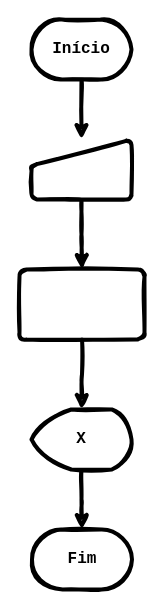
The diagram is 163 pixels wide and 608 high, and some of its shapes have lost their labels. The shapes that lost their labels are listed below. From the top down, each one's centre as x and y in pixels, then its label:
At point 81,169: "A, B".
At point 81,304: "X <- A + B".
